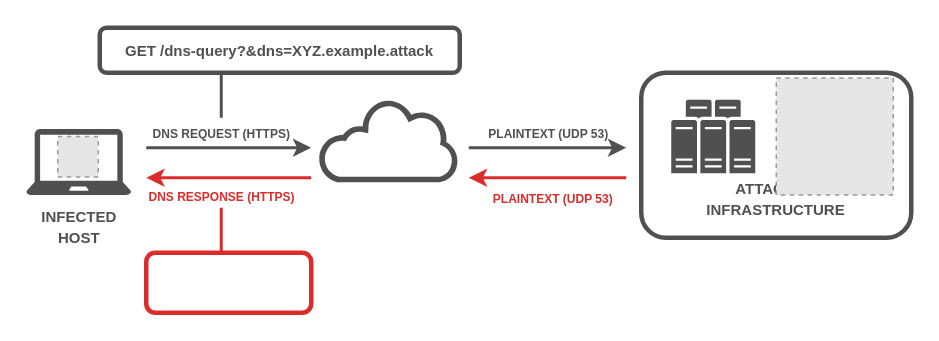
This 939x341 diagram has some shape labels left out. Grey dashed boxes stand in for pictures. The centre of each missing label's shape, as x and y in pixels:
DOH RESOLVER: the point at 388,140
HTTP/1.1 200 OK TXT: <DATA>: the point at 228,282
